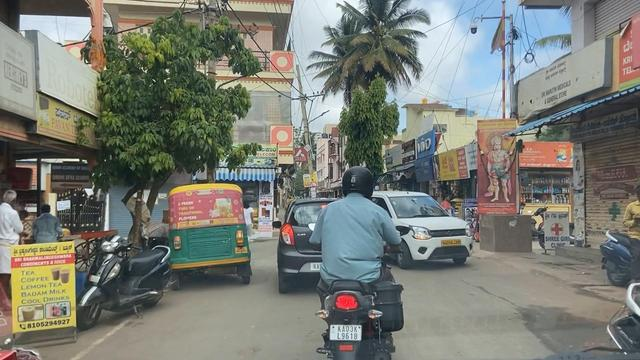LMV: (315, 164, 397, 360), (168, 183, 245, 283)
